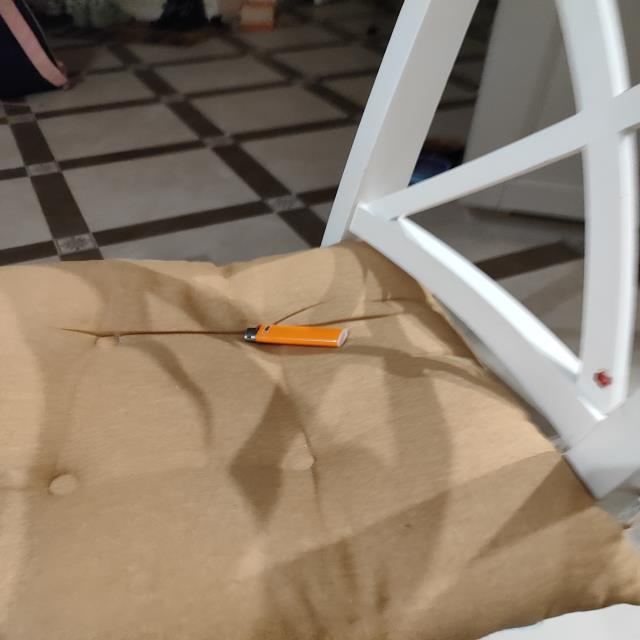lighter: (242, 323, 347, 347)
